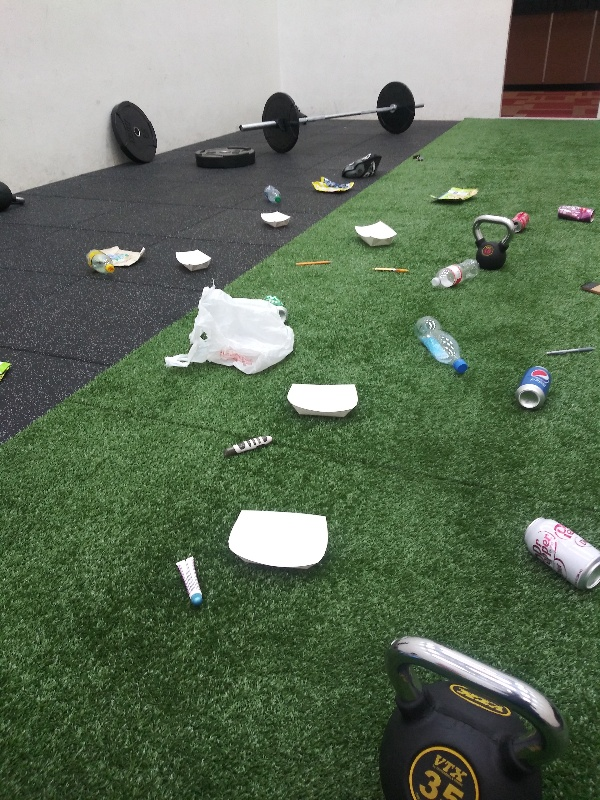bag: (100, 242, 148, 269), (429, 181, 481, 205), (309, 174, 355, 195), (1, 356, 17, 379)
bottle: (411, 310, 474, 376), (424, 251, 485, 284), (82, 247, 116, 275), (260, 180, 286, 205)
can: (519, 513, 600, 593), (513, 364, 551, 409), (260, 283, 294, 330), (551, 201, 597, 225), (508, 210, 531, 230)
plate: (225, 504, 334, 577), (283, 376, 363, 420), (348, 216, 399, 249), (169, 245, 215, 274), (255, 208, 293, 228)
